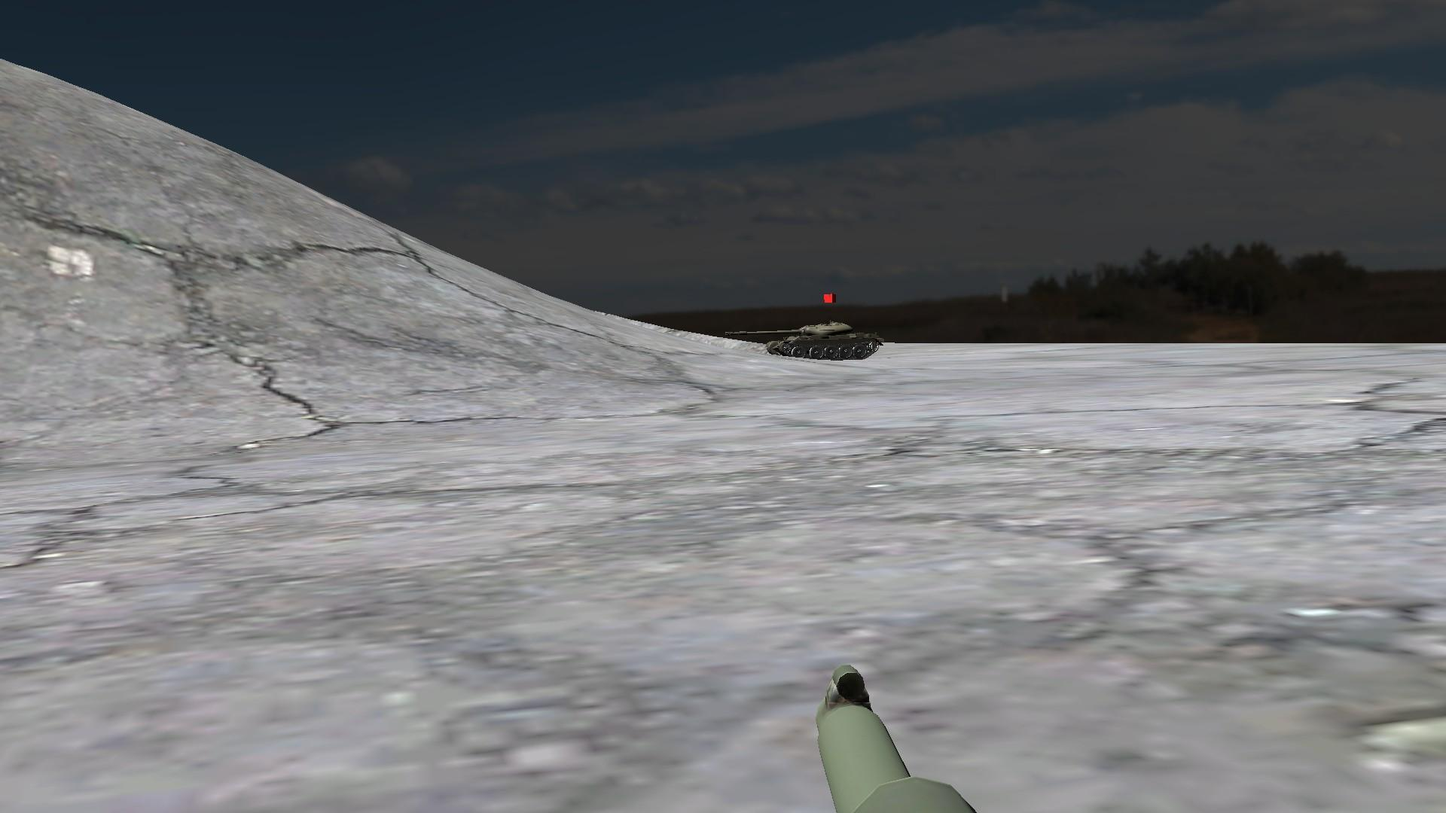Tank: (708, 315, 888, 366)
